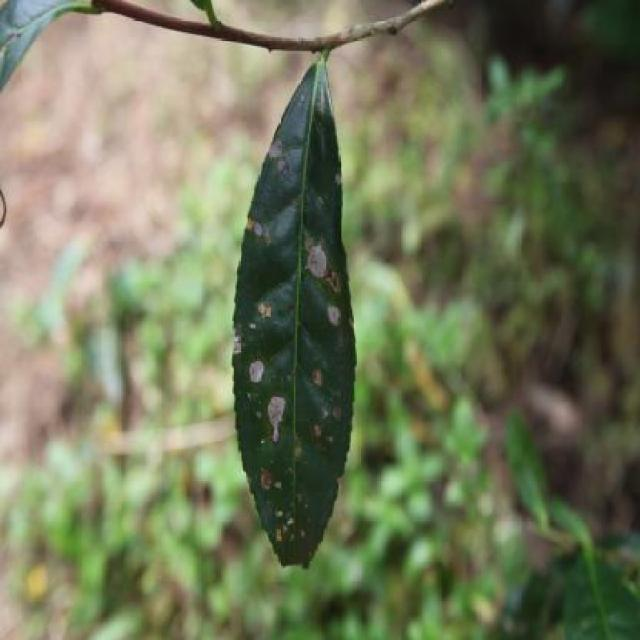Leaf rust of tea: (218, 37, 360, 598)
